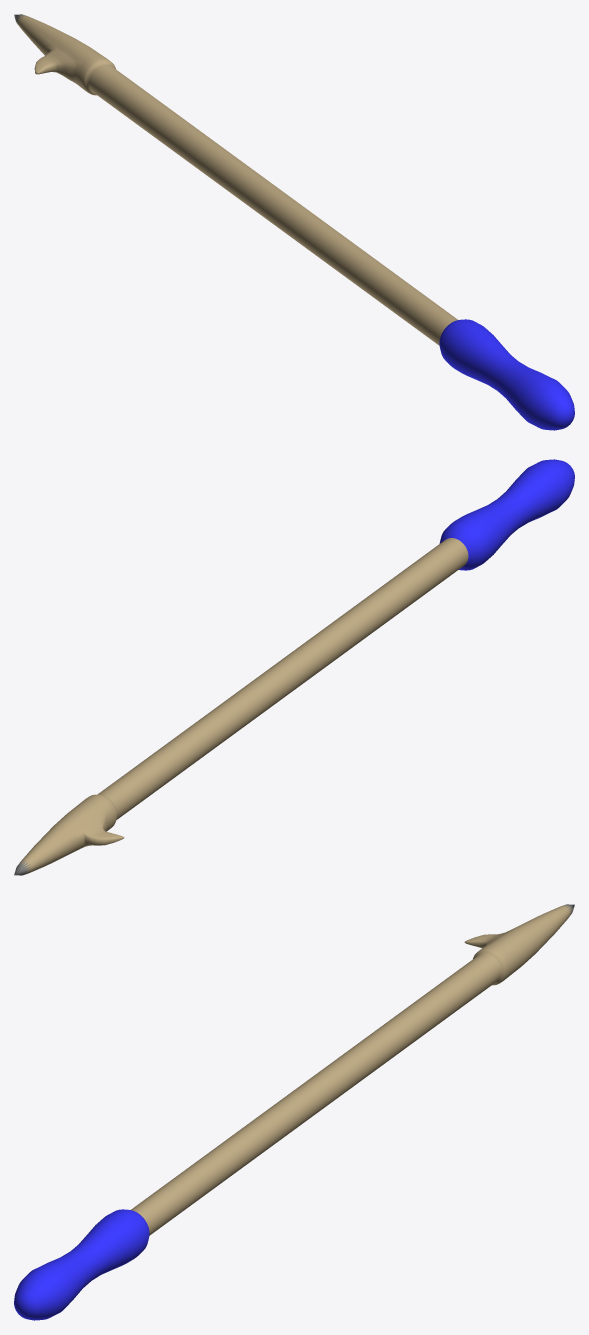
File: FirePoker.fbx
The picture shows the model from 3 angles, top to bottom: view 1: azimuth 30°, elevation 25°; view 2: azimuth 150°, elevation 25°; view 3: azimuth 330°, elevation 25°; orthographic projection.
Parts seen in each view (by area): view 1: Cylinder001, Handle; view 2: Cylinder001, Handle; view 3: Cylinder001, Handle.
Boxes of the visible parts, bbox=[...] form: Cylinder001: bbox=[14, 14, 457, 345]; Handle: bbox=[439, 319, 574, 430]; Cylinder001: bbox=[14, 538, 468, 875]; Handle: bbox=[439, 459, 574, 570]; Cylinder001: bbox=[131, 904, 574, 1235]; Handle: bbox=[14, 1209, 149, 1320].
Size of the model in its own units: 6.19 by 4.16 by 89.41.
